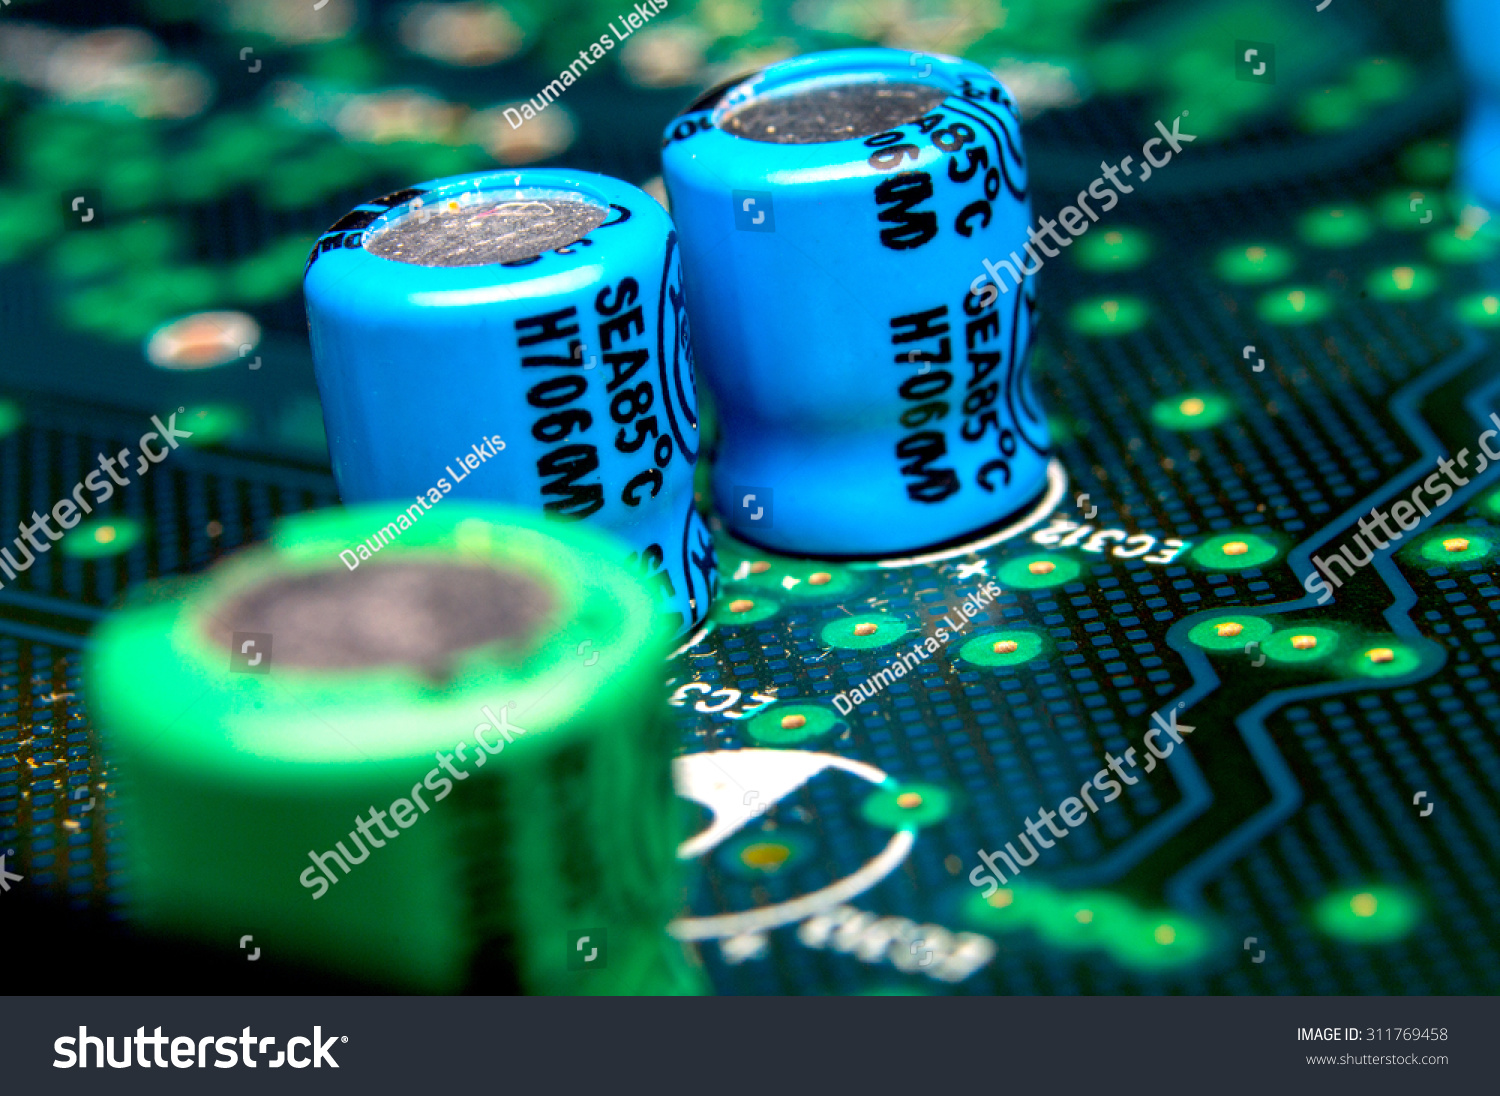capacitor: (622, 19, 1113, 620), (291, 146, 751, 712)
